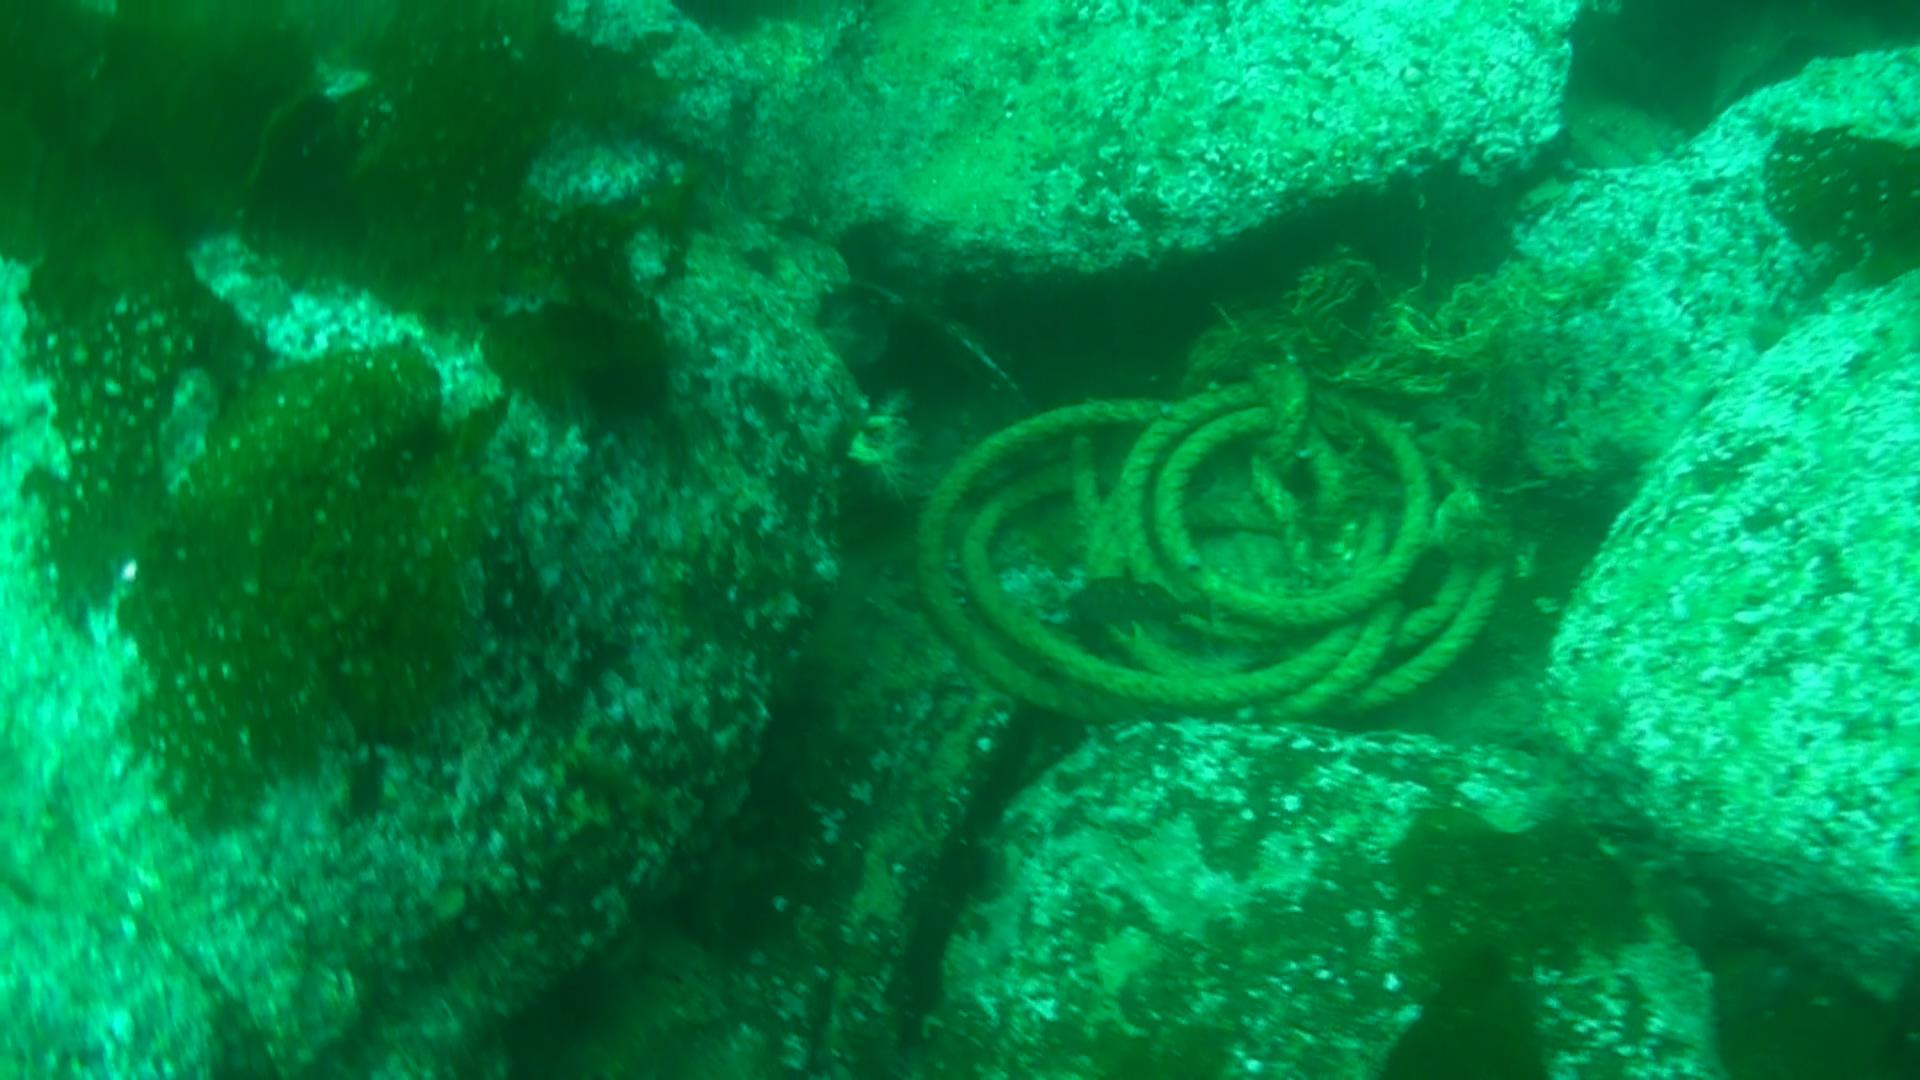bundle of ropes: (913, 357, 1515, 721)
